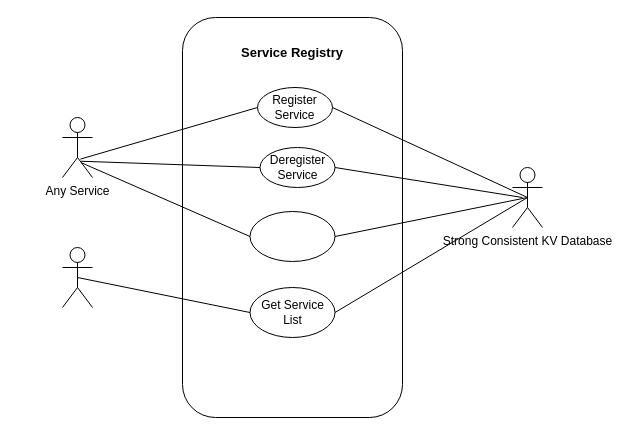
Some shapes in this 629 by 435 pixel diagram are drawn without their labels. The shapes that lost their labels are listed below. From the top down, each one's centre as x and y in pixels, then its label:
At (292,236): "Send HeartBeat Message".
At (77,277): "Load Balancer Sidecar".
